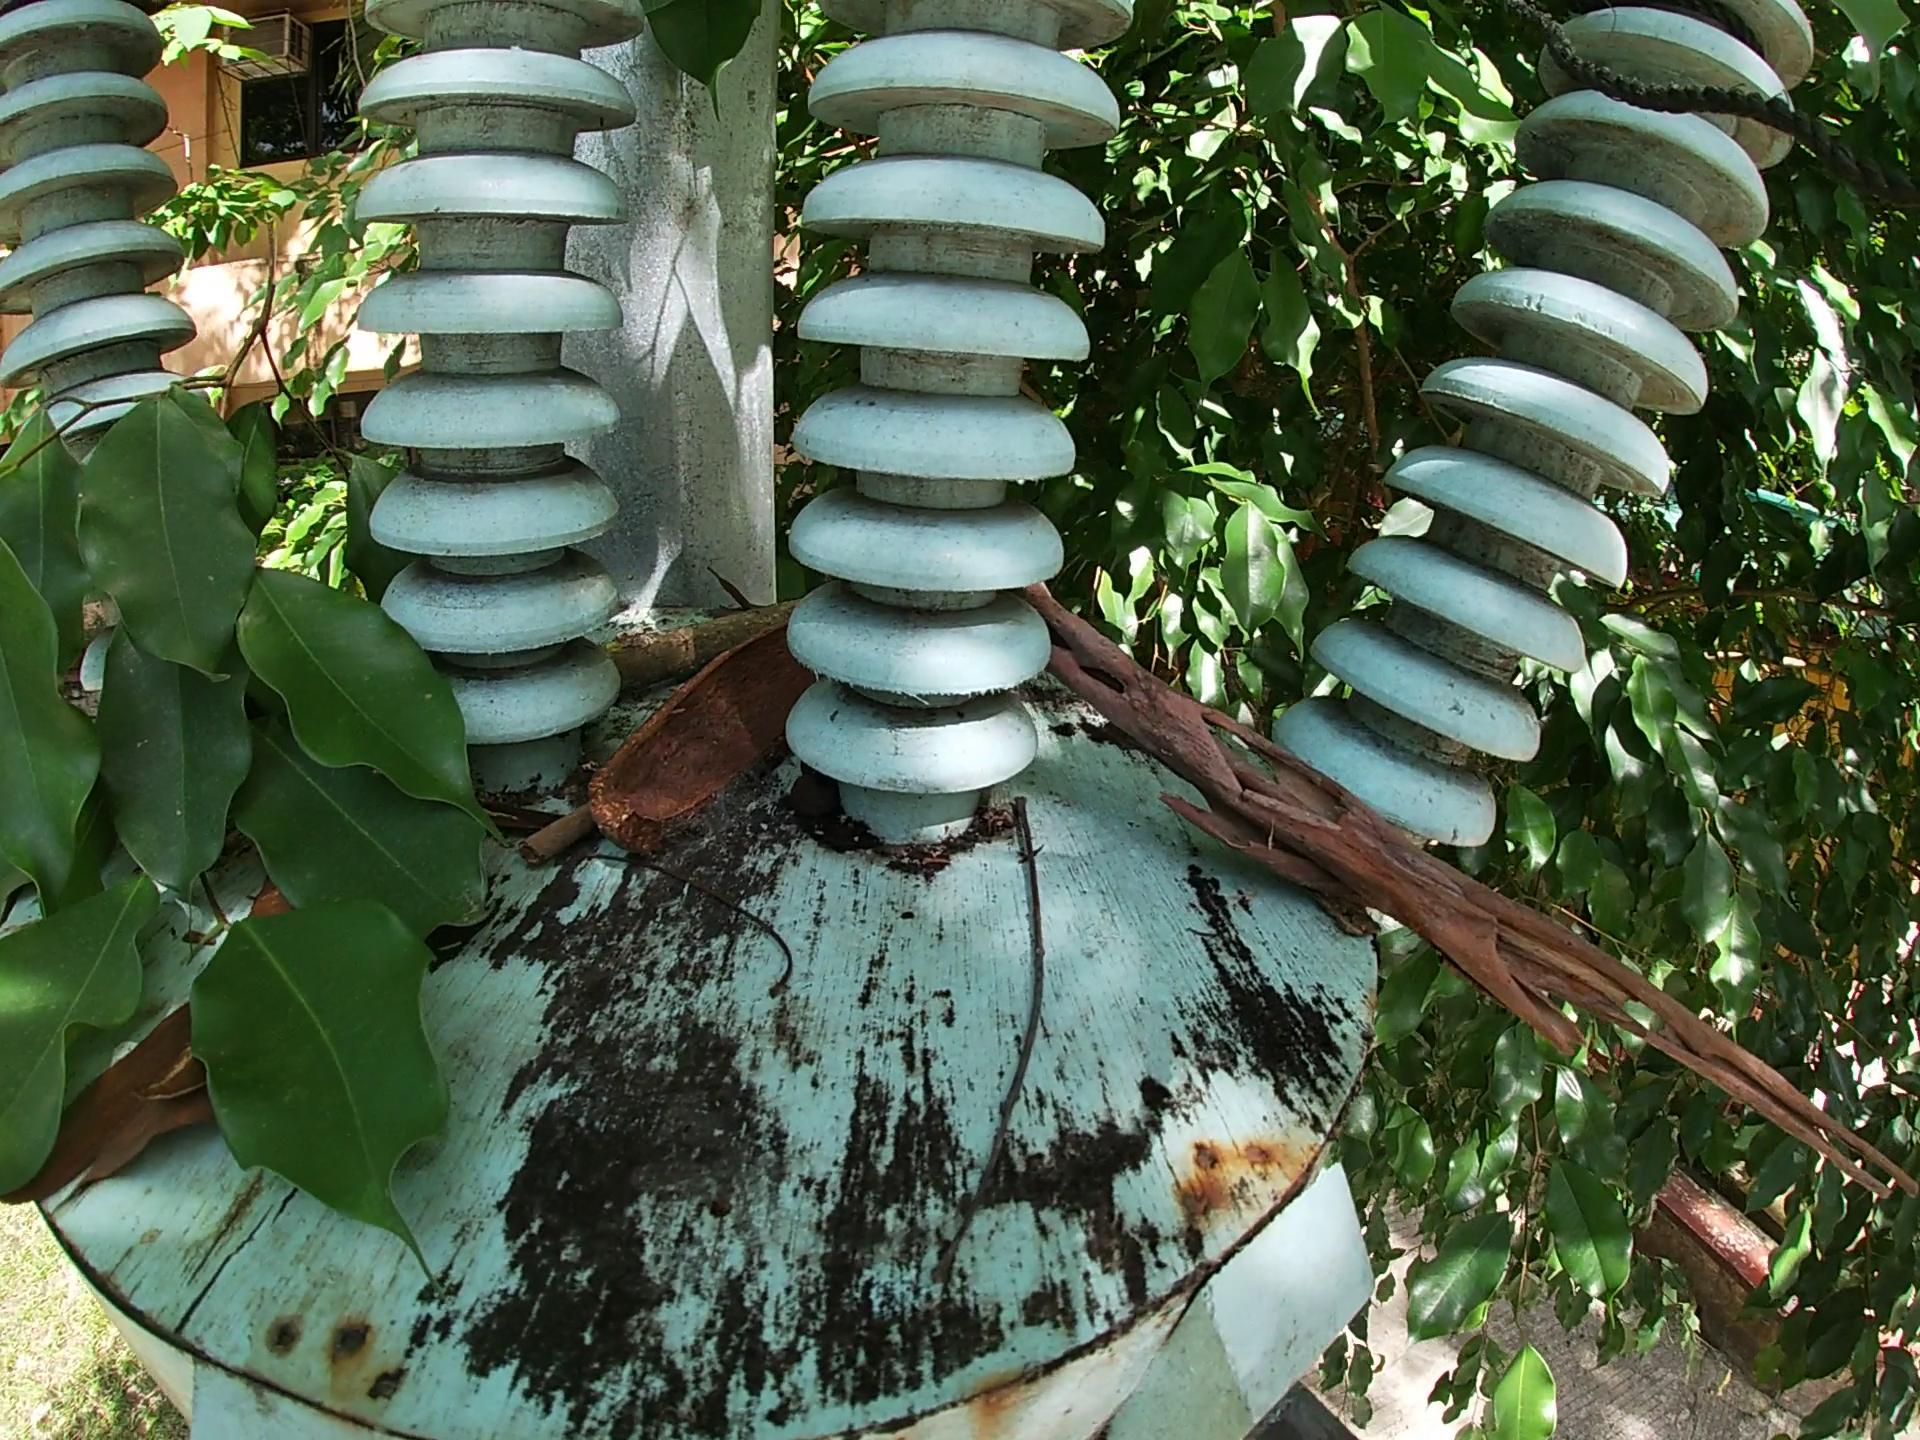branch with leaves: (2, 206, 558, 1311)
leaf: (56, 1071, 237, 1230), (234, 874, 299, 930)
mahogany fruit: (564, 617, 838, 853), (2, 995, 195, 1209)
tree branch: (1013, 579, 1920, 1207), (928, 787, 1089, 1227), (571, 852, 842, 1000), (596, 566, 816, 700), (503, 787, 602, 871)
